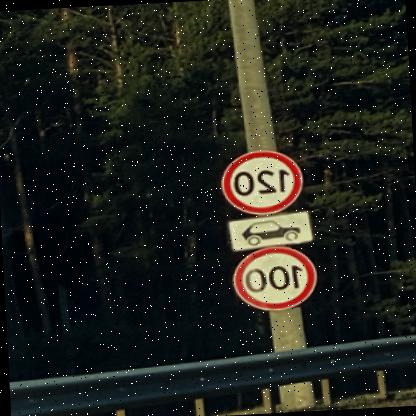speedlimit: (220, 148, 305, 216), (235, 244, 321, 311)
